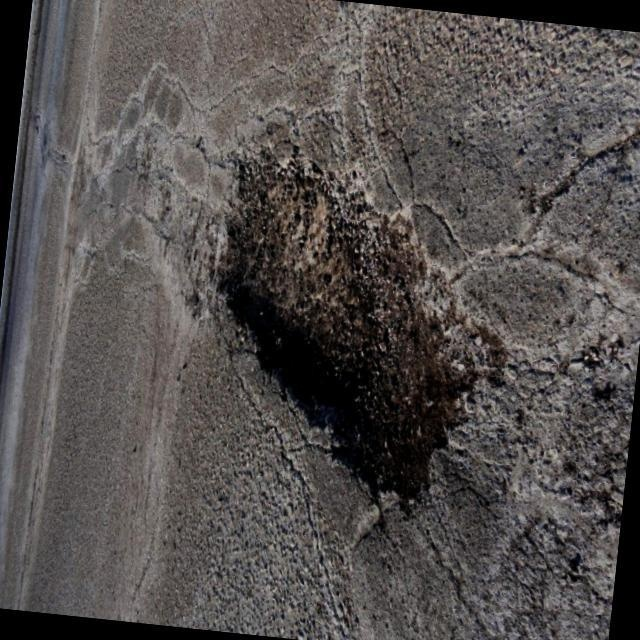pothole: (194, 163, 467, 500), (535, 136, 639, 350)
